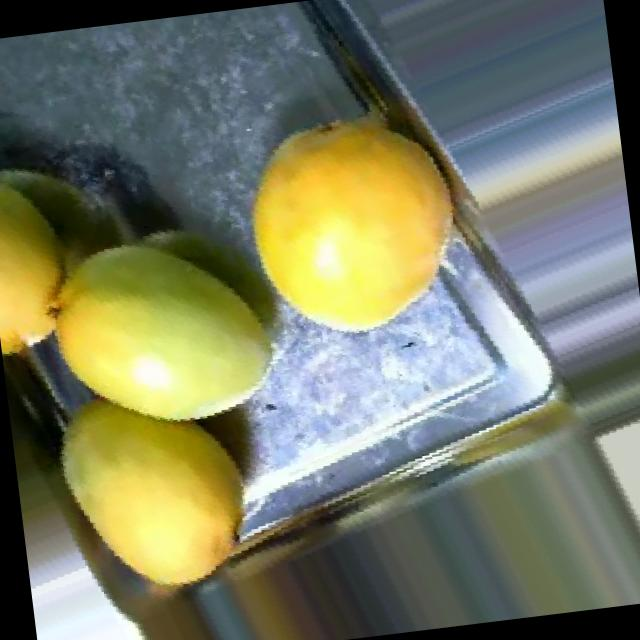fruit: (192, 64, 508, 382), (2, 180, 326, 484), (15, 348, 282, 630)
